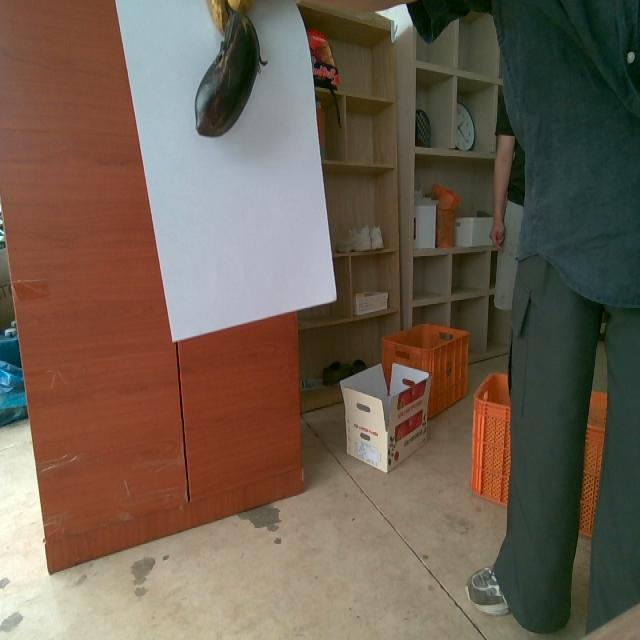Egg plant: (195, 8, 260, 136)
